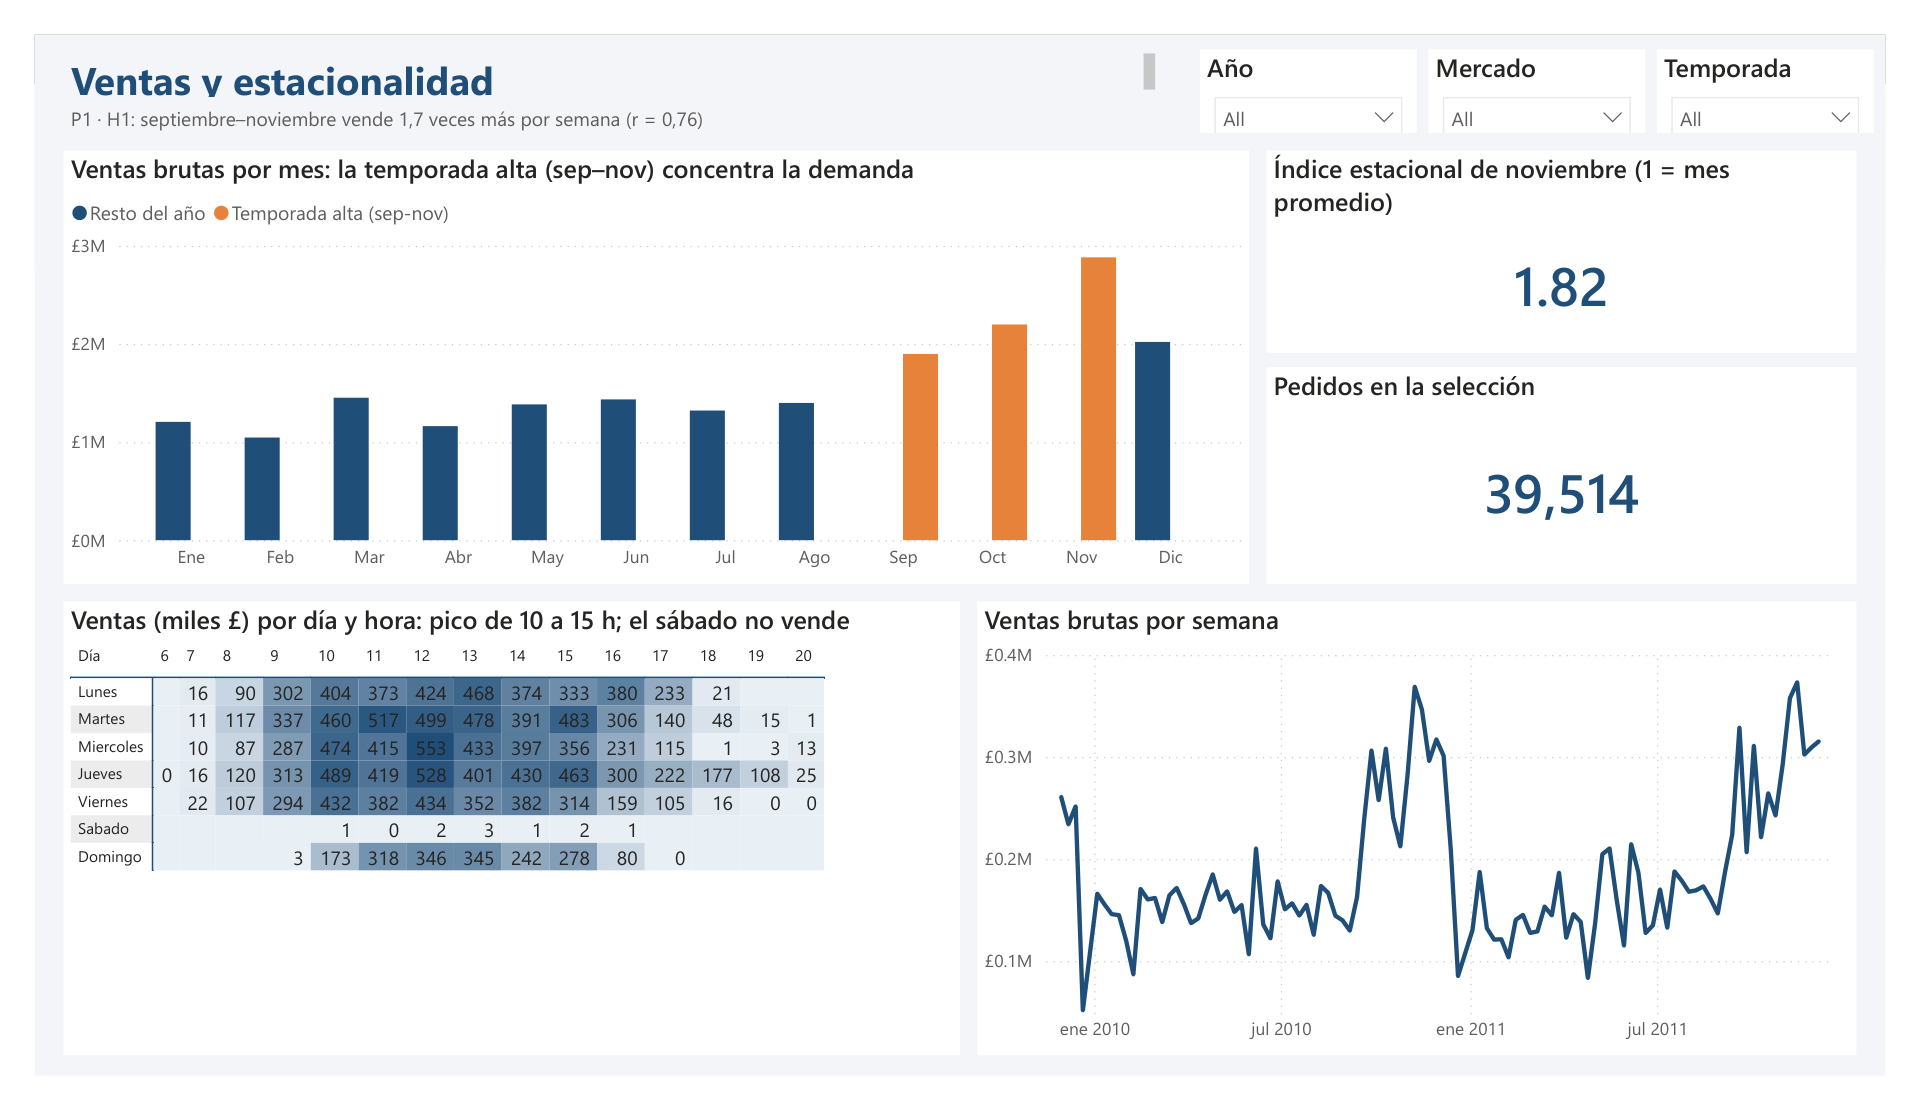

What the dashboard file says about the page in this screenshot:
{"tool":"powerbi","page":{"name":"Ventas y estacionalidad","canvas":[1280,720],"ordinal":1},"visuals":[{"type":"textbox","box":[20,8,760,40],"z":1000},{"type":"textbox","box":[20,44,760,28],"z":2000},{"type":"slicer","title":"Año","fields":{"Values":["dim_fecha.anio"]},"box":[806,10,150,58],"z":3000},{"type":"slicer","title":"Mercado","fields":{"Values":["dim_pais.pais_grupo"]},"box":[964,10,150,58],"z":4000},{"type":"slicer","title":"Temporada","fields":{"Values":["dim_fecha.temporada"]},"box":[1122,10,150,58],"z":5000},{"type":"clusteredColumnChart","title":"Ventas brutas por mes: la temporada alta (sep–nov) concentra la demanda","fields":{"Category":["dim_fecha.mes"],"Y":["_Medidas.Ventas Brutas"],"Series":["dim_fecha.temporada"]},"box":[20,80,820,300],"z":6000},{"type":"card","title":"Índice estacional de noviembre (1 = mes promedio)","fields":{"Values":["_Medidas.Índice Noviembre"]},"box":[852,80,408,140],"z":7000},{"type":"card","title":"Pedidos en la selección","fields":{"Values":["_Medidas.Pedidos"]},"box":[852,230,408,150],"z":8000},{"type":"pivotTable","title":"Ventas (miles £) por día y hora: pico de 10 a 15 h; el sábado no vende","fields":{"Rows":["dim_fecha.dia_semana"],"Columns":["fact_lineas.hora"],"Values":["_Medidas.Ventas (miles £)"]},"box":[20,392,620,314],"z":9000},{"type":"lineChart","title":"Ventas brutas por semana","fields":{"Category":["dim_fecha.semana_inicio"],"Y":["_Medidas.Ventas Brutas"]},"box":[652,392,608,314],"z":10000}]}

Visuals, with their boxes in screenshot pixels (x1, y1, x2, y2), scaled from the page's 1280x720 canvas onto the 1920x1111 screenshot:
textbox: 30 12 1170 74
textbox: 30 68 1170 111
"Año" slicer: 1209 15 1434 105
"Mercado" slicer: 1446 15 1671 105
"Temporada" slicer: 1683 15 1908 105
"Ventas brutas por mes: la temporada alta (sep–nov) concentra la demanda" clusteredColumnChart: 30 123 1260 586
"Índice estacional de noviembre (1 = mes promedio)" card: 1278 123 1890 339
"Pedidos en la selección" card: 1278 355 1890 586
"Ventas (miles £) por día y hora: pico de 10 a 15 h; el sábado no vende" pivotTable: 30 605 960 1089
"Ventas brutas por semana" lineChart: 978 605 1890 1089
